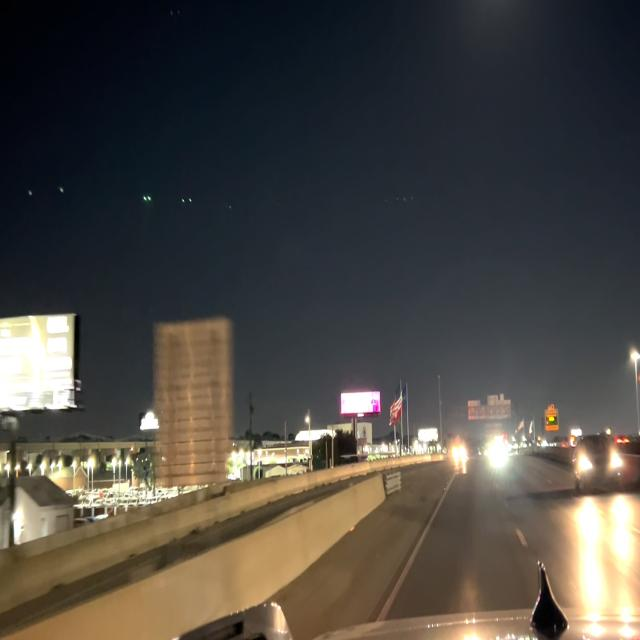back-of-sign: (149, 315, 233, 495), (466, 389, 513, 424)
